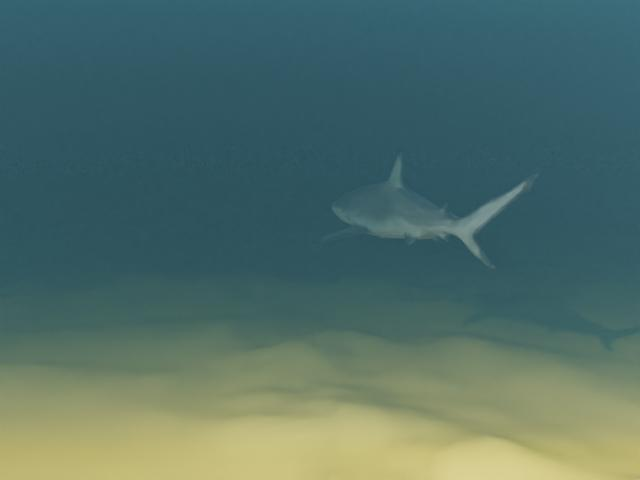Carribean Shark.001: (311, 151, 538, 269)
